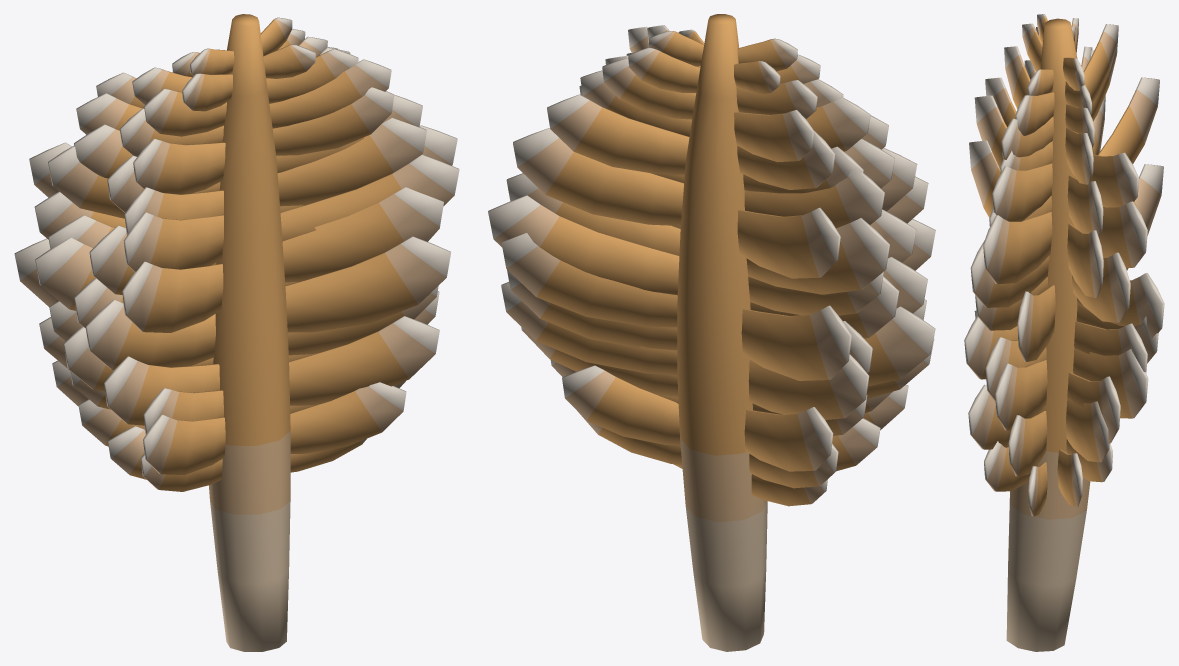
File: orange_sea_pen.glb
3 renders of one model, left to right at view 1: azimuth 30°, elevation 25°; view 2: azimuth 150°, elevation 25°; view 3: azimuth 270°, elevation 25°, orthographic. The views are drawn at different scales.
Parts seen in each view (by area): view 1: orange_sea_pen; view 2: orange_sea_pen; view 3: orange_sea_pen.
Part boxes in pixels (<box>): orange_sea_pen: <box>14,14,459,651</box>; orange_sea_pen: <box>488,14,935,651</box>; orange_sea_pen: <box>964,14,1164,651</box>.
Size of the model in its own units: 0.268 by 0.4219 by 0.124.
